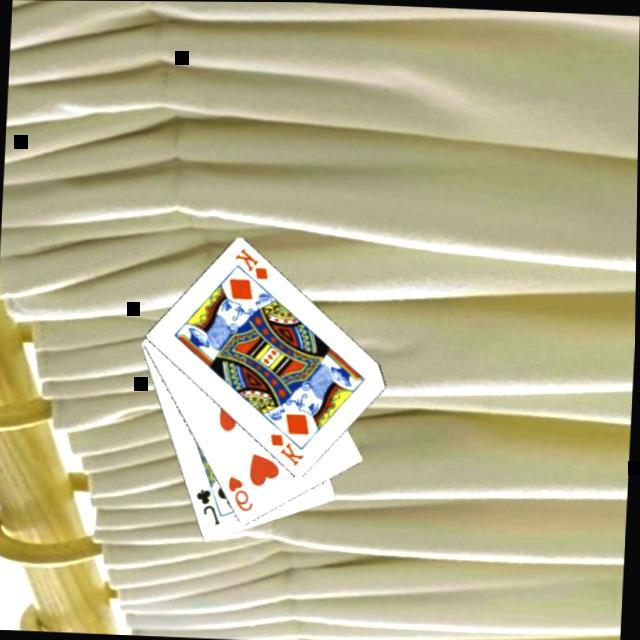6H: (222, 472, 256, 512)
JC: (190, 484, 223, 526)
KD: (264, 428, 308, 468), (230, 243, 270, 280)
